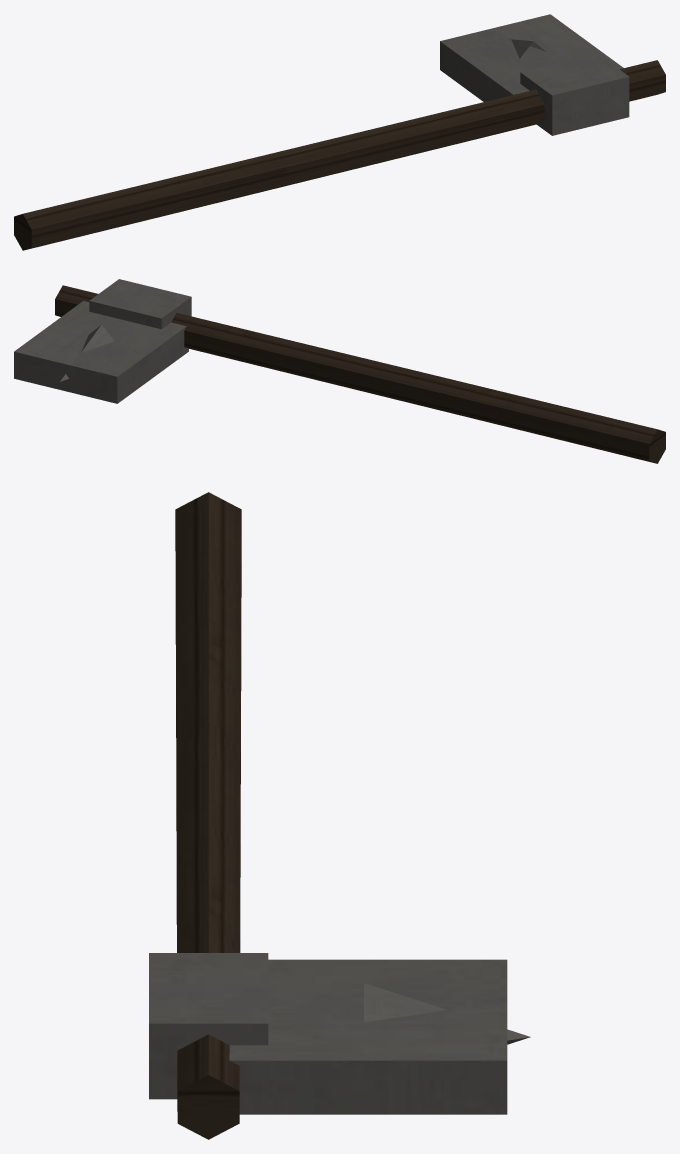
Rendered from loot_axe_g0.glb.
3 renders of one model, top to bottom at view 1: azimuth 30°, elevation 25°; view 2: azimuth 150°, elevation 25°; view 3: azimuth 270°, elevation 25°, orthographic. The views are drawn at different scales.
Parts seen in each view (by area): view 1: loot_axe_g0; view 2: loot_axe_g0; view 3: loot_axe_g0.
Part boxes in pixels (bbox=[...]): loot_axe_g0: bbox=[14, 14, 665, 250]; loot_axe_g0: bbox=[14, 279, 665, 463]; loot_axe_g0: bbox=[149, 492, 530, 1139].
Size of the model in its own units: 1.15 by 0.1 by 0.32.
Materials: 2 (2 with a texture image).
